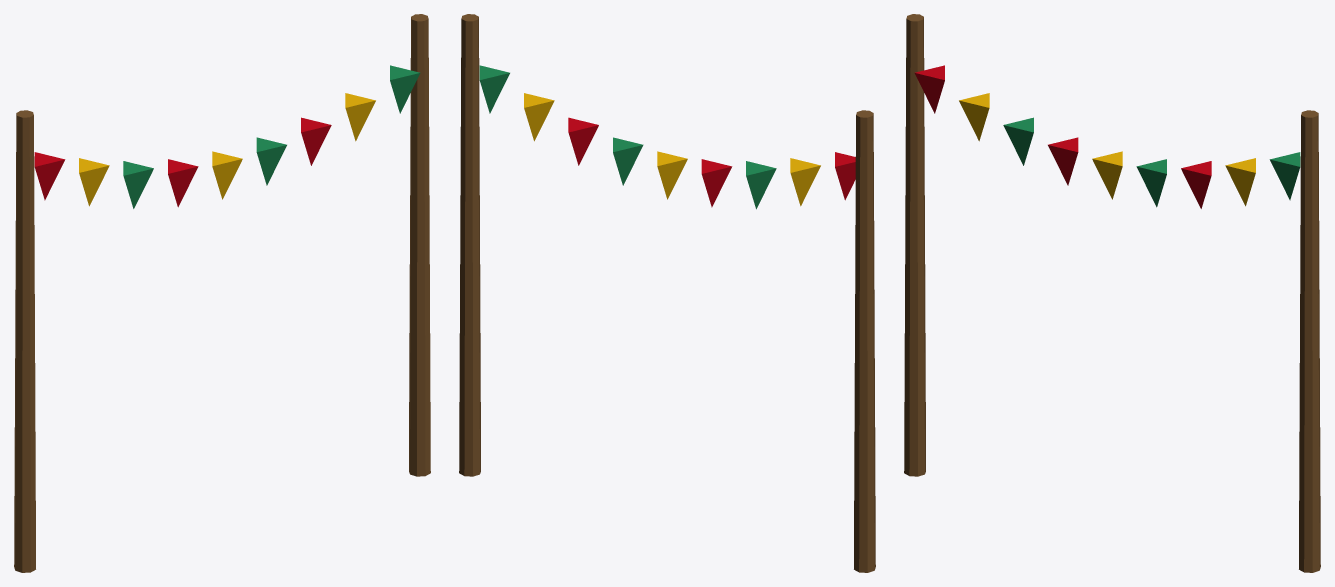
Rendered from bunting.glb.
3 renders of one model, left to right at view 1: azimuth 30°, elevation 25°; view 2: azimuth 150°, elevation 25°; view 3: azimuth 330°, elevation 25°, orthographic.
Parts seen in each view (by area): view 1: bunting_wood, bunting_fabric; view 2: bunting_wood, bunting_fabric; view 3: bunting_wood, bunting_fabric.
Part boxes in pixels (<box>): bunting_wood: <box>14,14,430,572</box>; bunting_fabric: <box>34,65,420,208</box>; bunting_wood: <box>459,14,875,572</box>; bunting_fabric: <box>479,65,855,209</box>; bunting_wood: <box>904,14,1320,572</box>; bunting_fabric: <box>914,65,1300,208</box>.
Size of the model in its own units: 2.1 by 2.2 by 0.1399.
